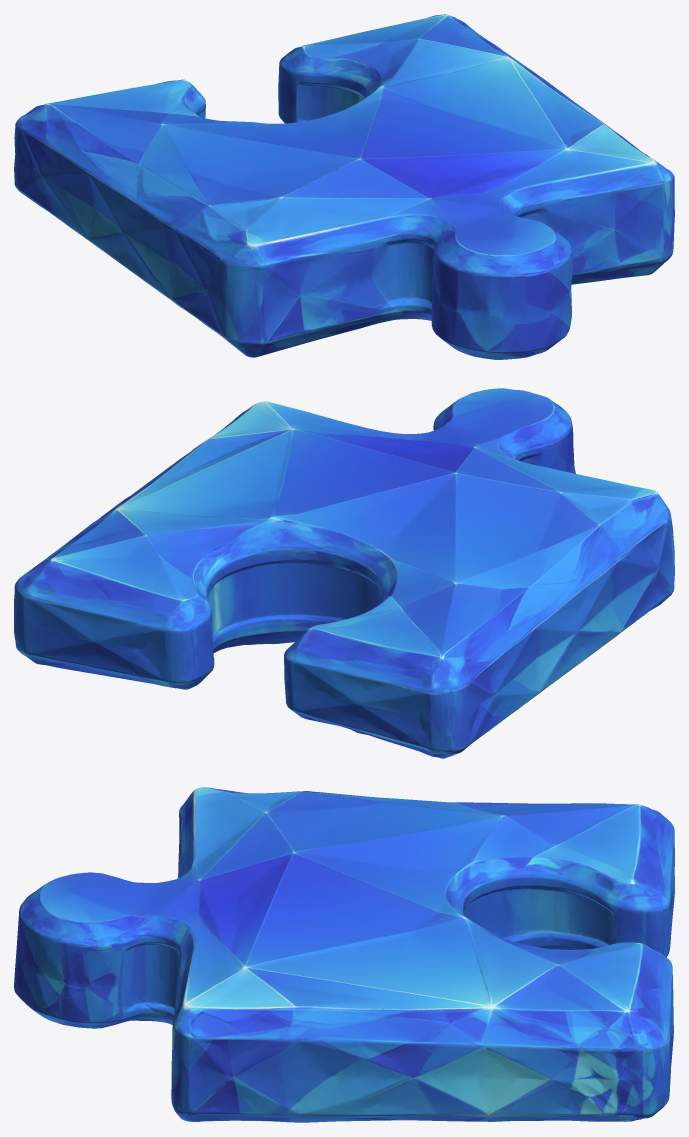
The model's file is puzzle.glb.
3 renders of one model, top to bottom at view 1: azimuth 30°, elevation 25°; view 2: azimuth 150°, elevation 25°; view 3: azimuth 270°, elevation 25°, orthographic. The views are drawn at different scales.
Visible parts, largest first — view 1: tripo_node_b36f5d93-4f82-4978-b181-c2828da24ec1; view 2: tripo_node_b36f5d93-4f82-4978-b181-c2828da24ec1; view 3: tripo_node_b36f5d93-4f82-4978-b181-c2828da24ec1.
Part boxes in pixels (x1,y1,x2,y2): tripo_node_b36f5d93-4f82-4978-b181-c2828da24ec1: (14,14,674,359); tripo_node_b36f5d93-4f82-4978-b181-c2828da24ec1: (14,388,674,758); tripo_node_b36f5d93-4f82-4978-b181-c2828da24ec1: (14,787,674,1122).
Bounding box in the file's own units: 0.8205 × 0.2454 × 0.9805.
Materials: 1 (1 with a texture image).
